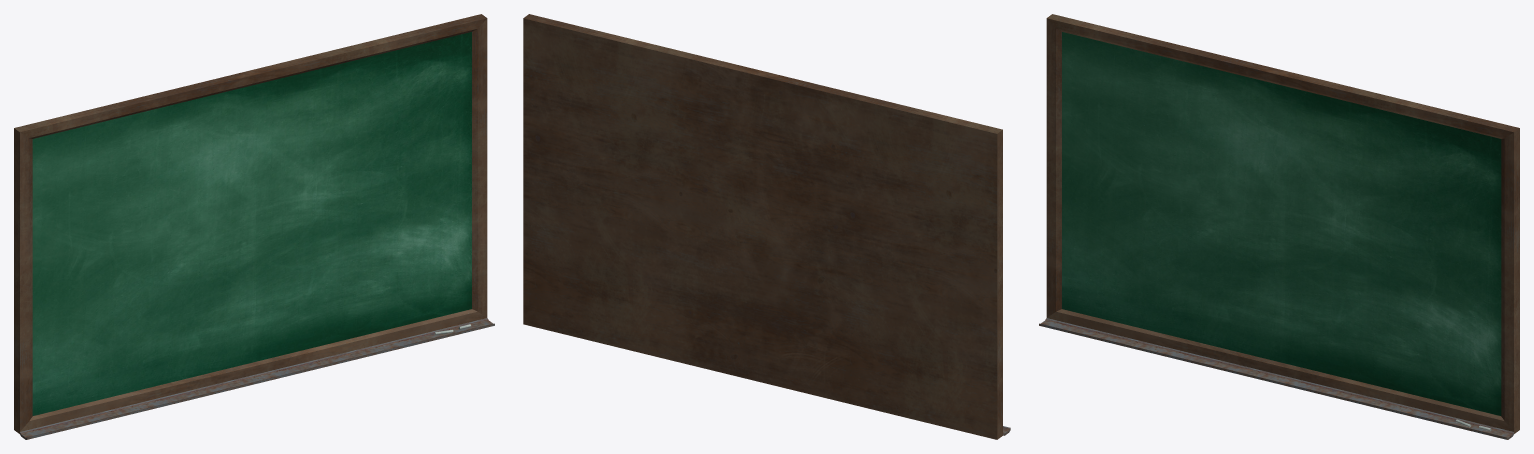
The model's file is ChalkBoard.obj.
3 views of the same model, side by side, from view 1: azimuth 30°, elevation 25°; view 2: azimuth 150°, elevation 25°; view 3: azimuth 330°, elevation 25° (orthographic).
Visible parts, largest first — view 1: Cube; view 2: Cube; view 3: Cube.
Part boxes in pixels (<box>): Cube: <box>14,14,494,439</box>; Cube: <box>523,14,1010,439</box>; Cube: <box>1039,14,1519,439</box>.
Bounding box in the file's own units: 5.52 × 3.42 × 0.273.
1 material, 1 textured.
